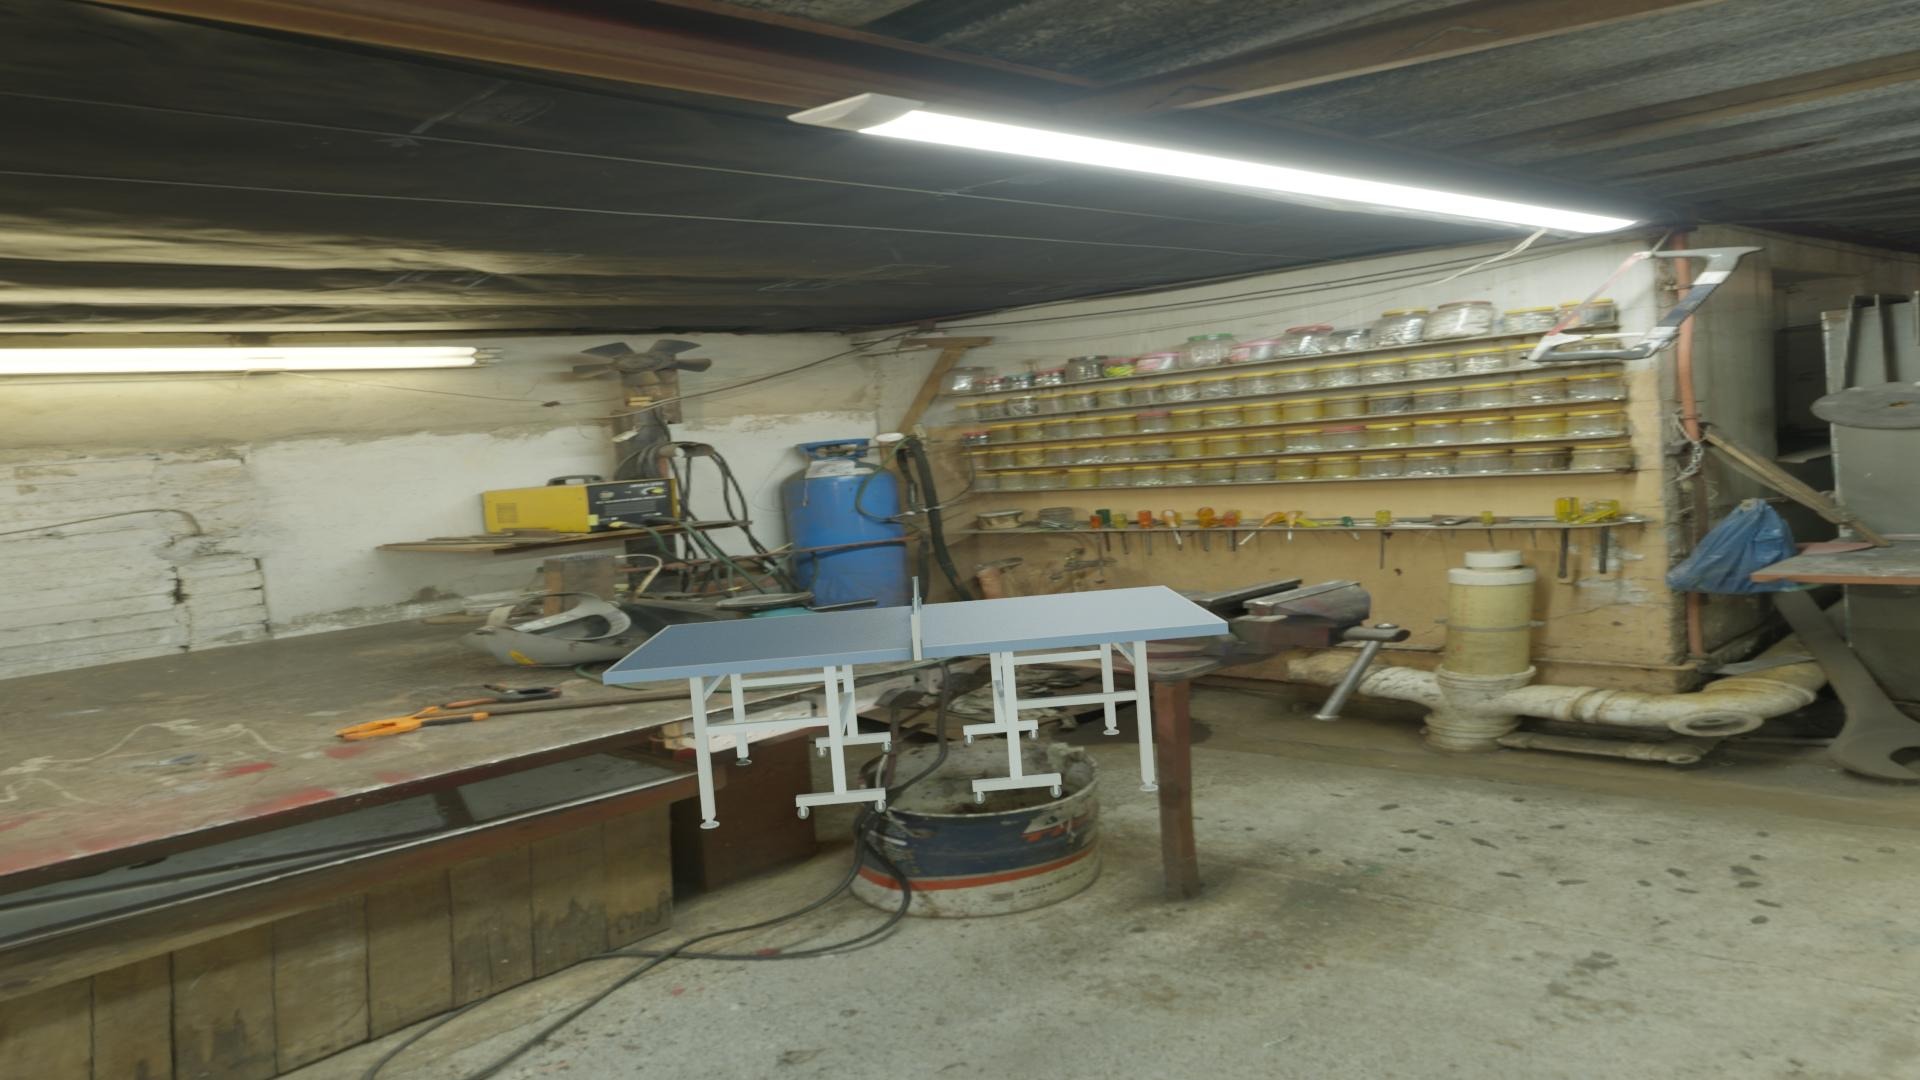table: (608, 587, 1222, 673)
